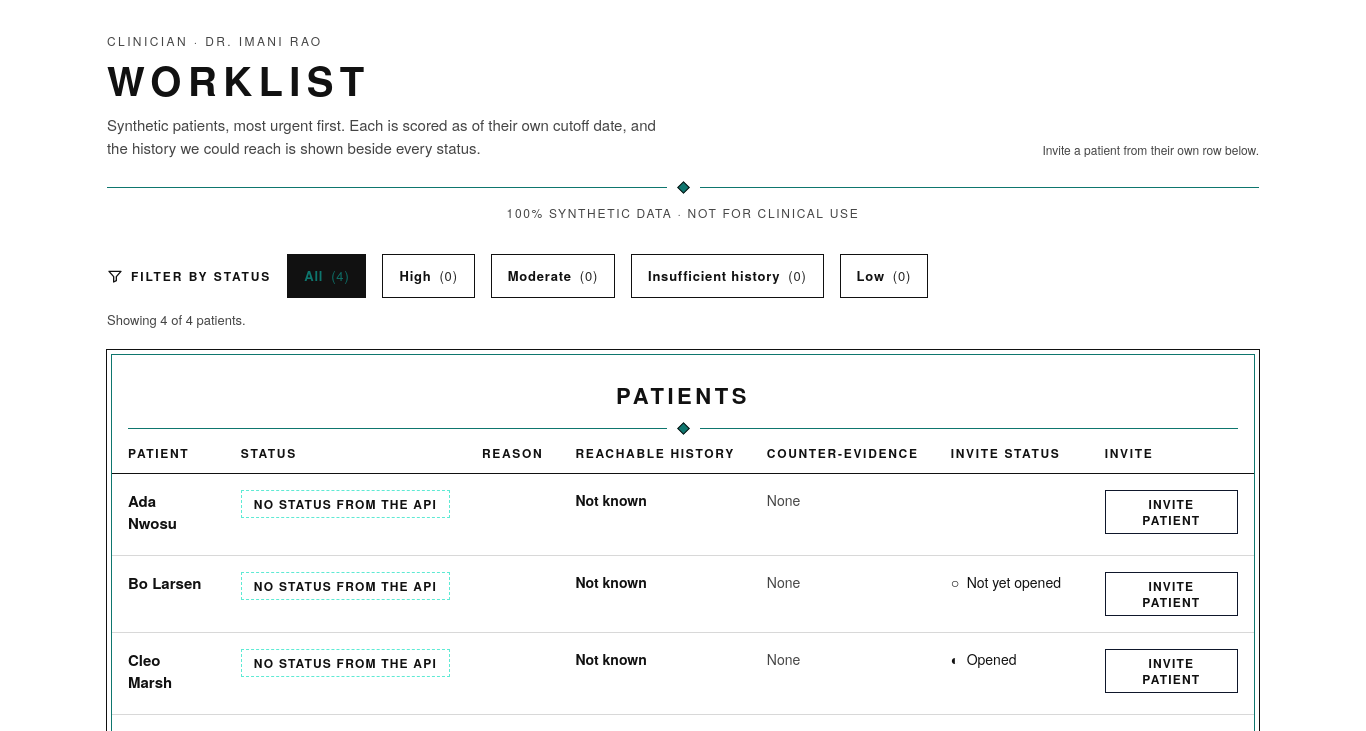
Scenario: Worklist invite status › [AC-084] a 404 on an unknown patient shows its detail inline
Expected: the button "Ada Nwosu" is shown, [128, 490, 209, 534]
Click the button with aria-label "Invite patient Ada Nwosu" at (1171,512), box [1105, 490, 1238, 534]
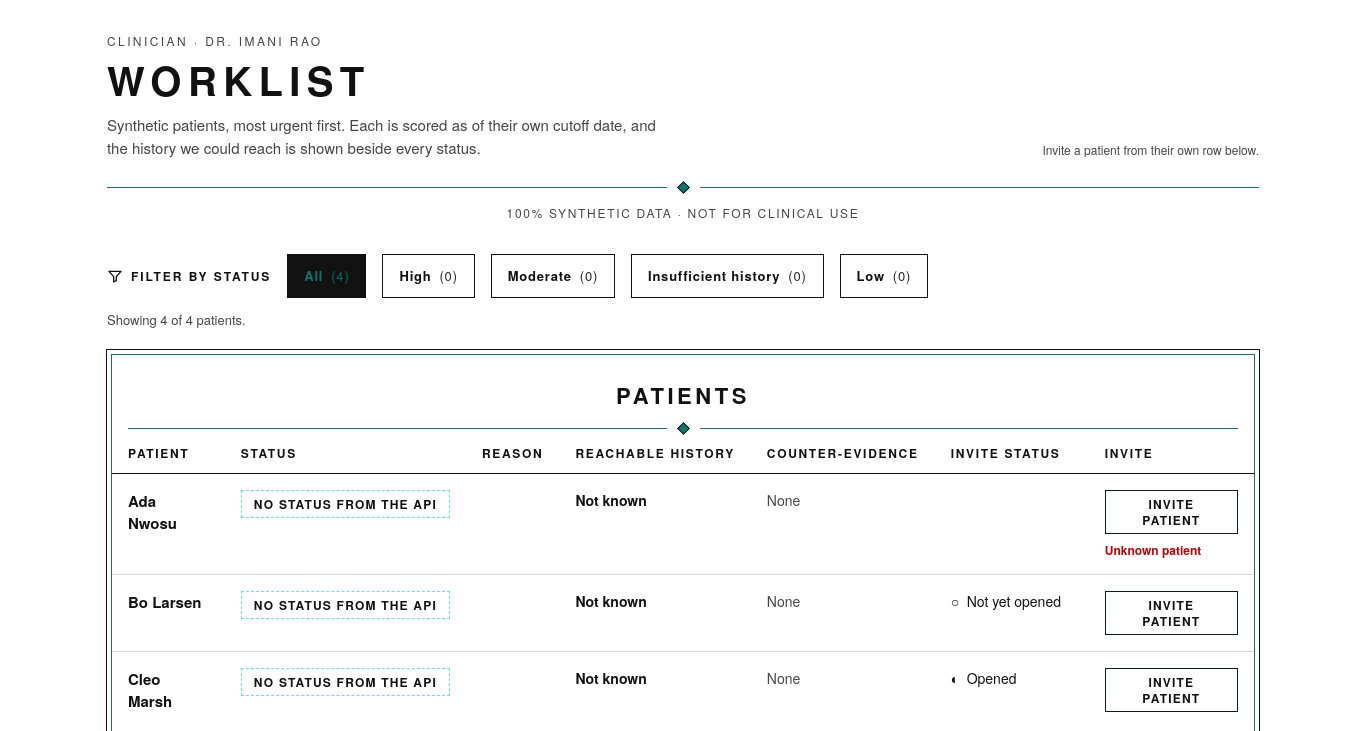
Now the text "Unknown patient" is shown, box [1105, 540, 1201, 558]
